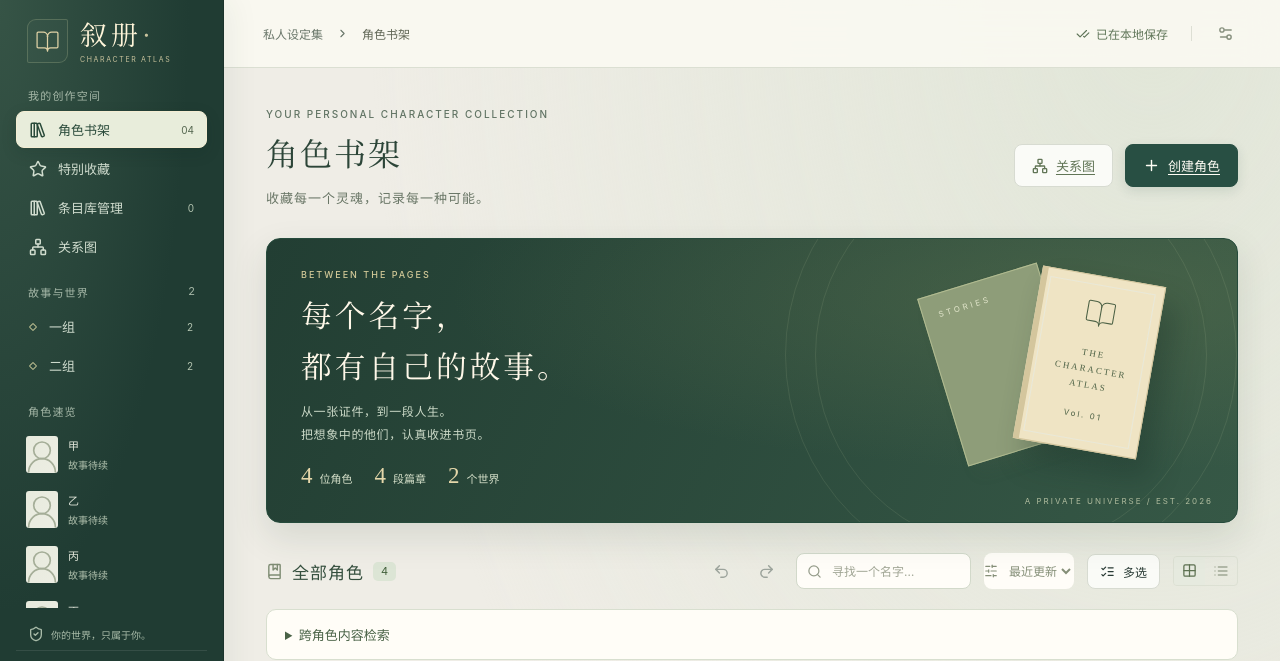
搜索 / 列表布局下选择与可见结果保持一致
Step 1. Click the button named "列表视图" → (1221, 571), box [1205,557,1237,585]
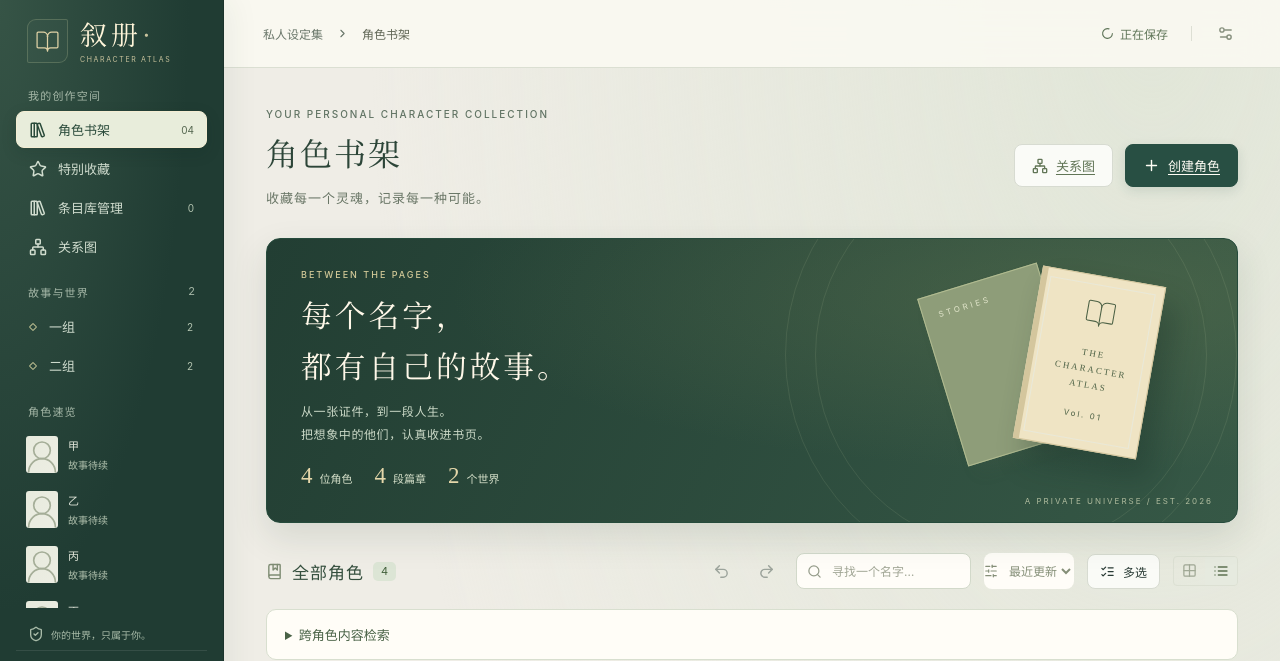
Step 2. Click the button "多选" → (1124, 571), box [1087,554,1160,589]
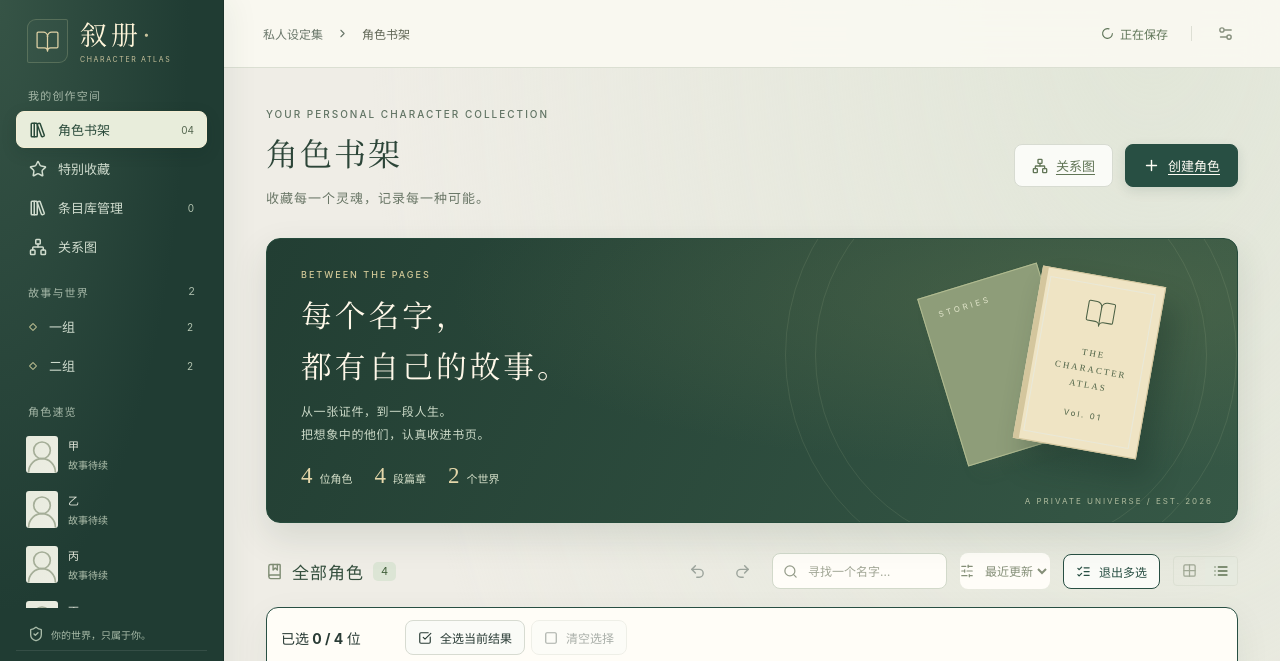
Step 3. Click the button "全选当前结果" → (465, 638), box [405,620,525,655]
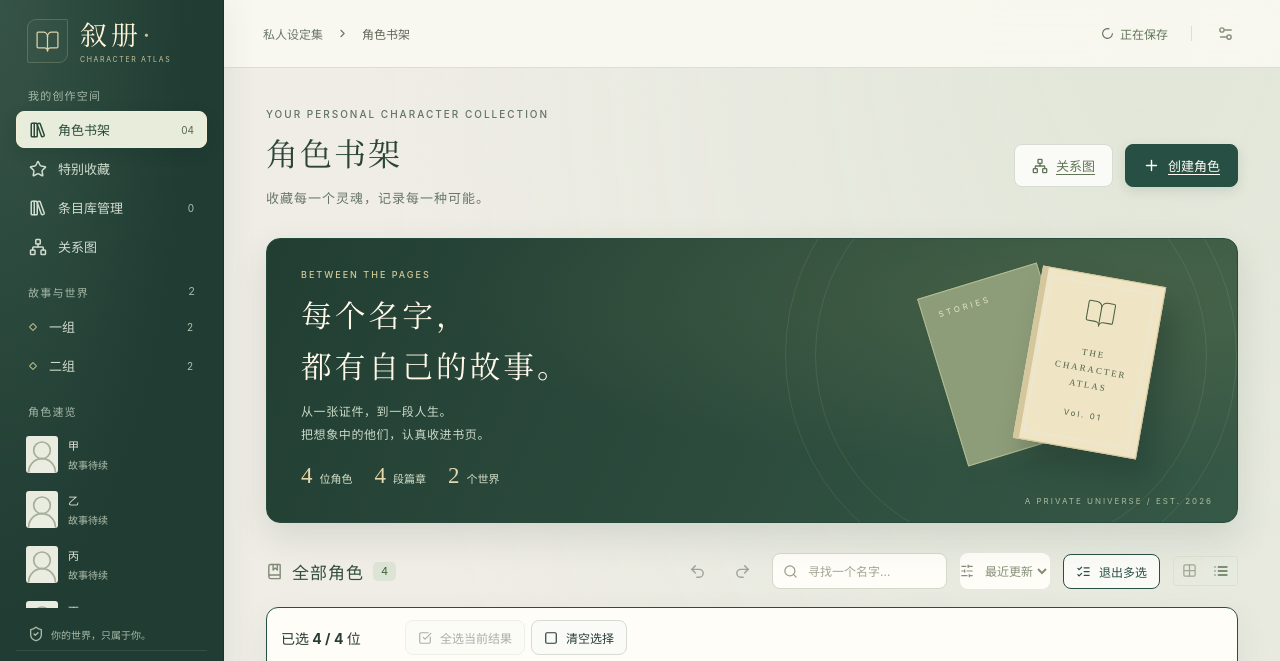
Step 4. Type "乙" into the field named "搜索角色" → (871, 571), box [806,563,936,580]
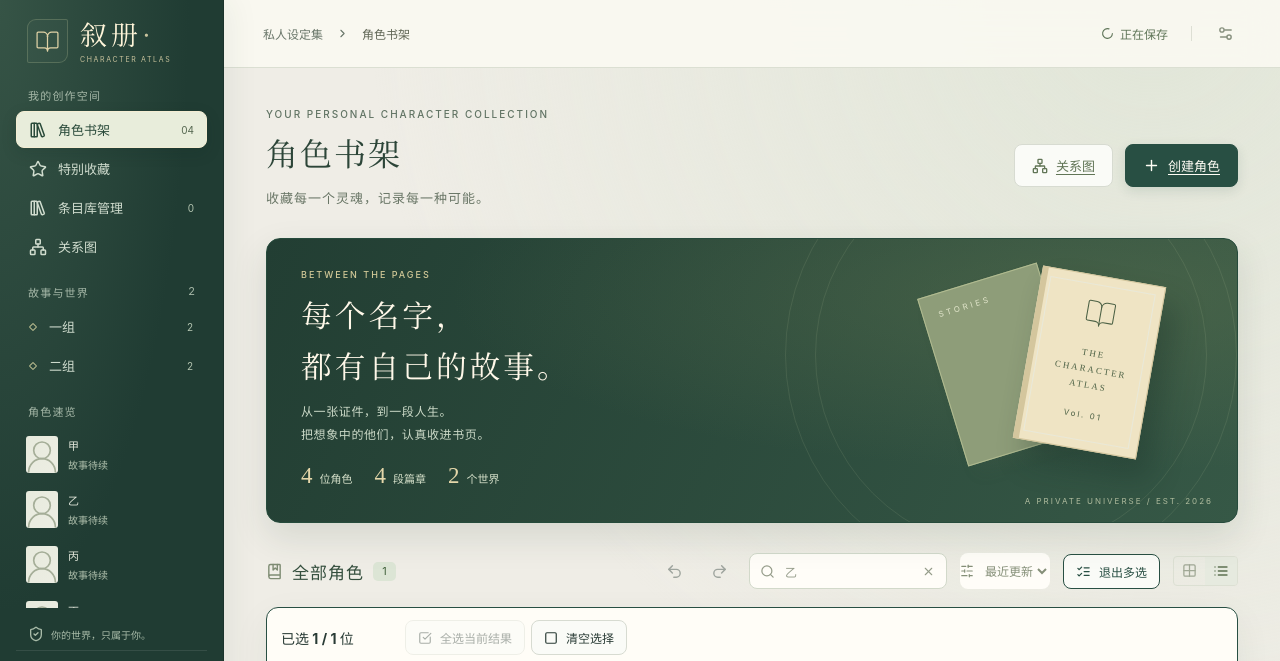
expect the text "已选 1 / 1 位" is shown: met, box [281,630,354,647]
Step 5. Clear the field named "搜索角色" → (848, 571), box [783,563,913,580]
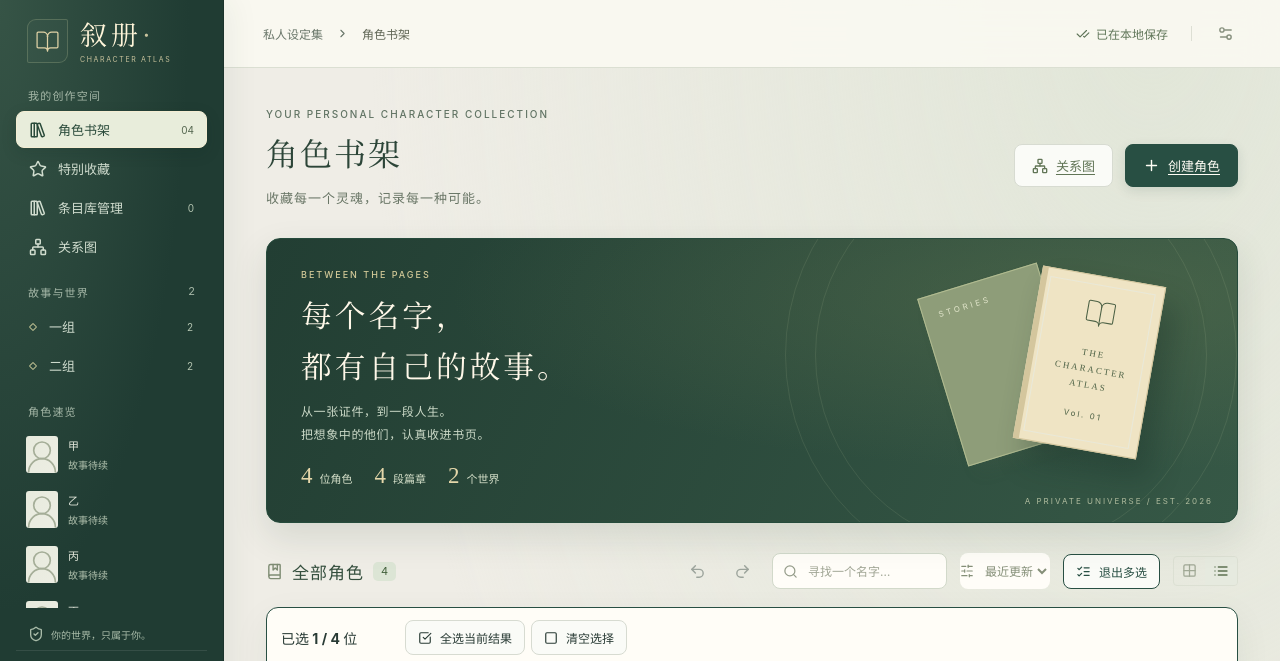
expect the text "已选 1 / 4 位" is shown: met, box [281,630,357,647]
